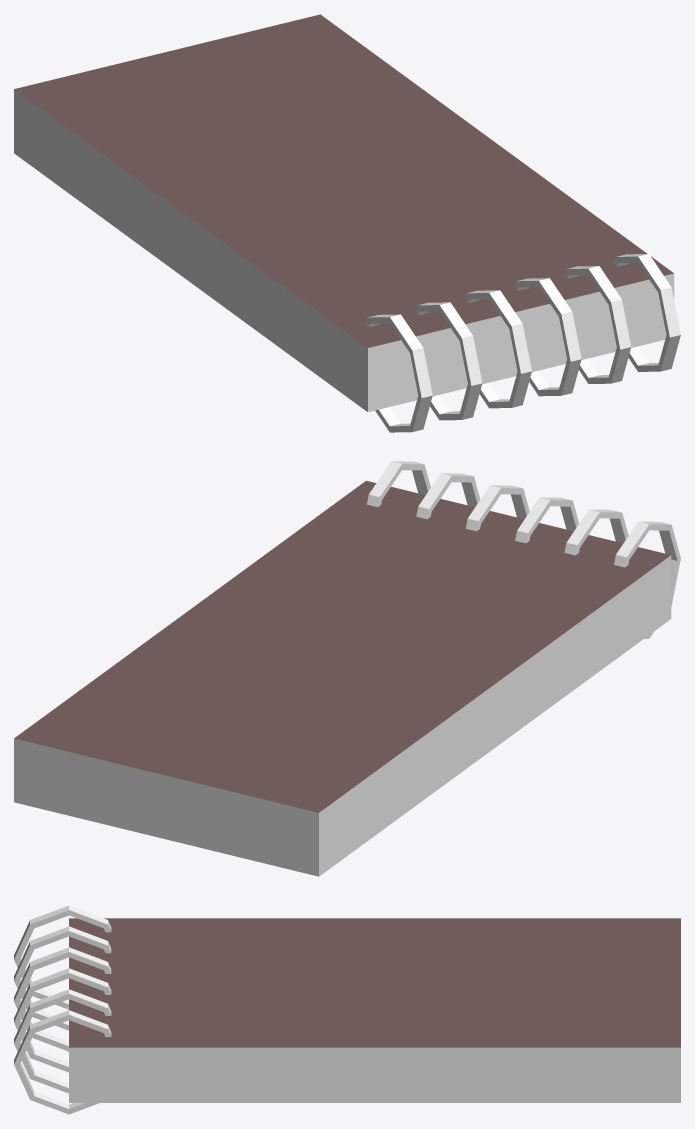
The model's file is Carnet.fbx.
The picture shows the model from 3 angles, top to bottom: view 1: azimuth 30°, elevation 25°; view 2: azimuth 150°, elevation 25°; view 3: azimuth 270°, elevation 25°; orthographic projection. The views are drawn at different scales.
Parts seen in each view (by area): view 1: Carnet; view 2: Carnet; view 3: Carnet.
Part boxes in pixels (x1=…): Carnet: x1=14, y1=14, x2=680, y2=432; Carnet: x1=14, y1=461, x2=680, y2=876; Carnet: x1=14, y1=905, x2=680, y2=1114.
Bounding box in the file's own units: 10 × 3.6 × 21.8.
